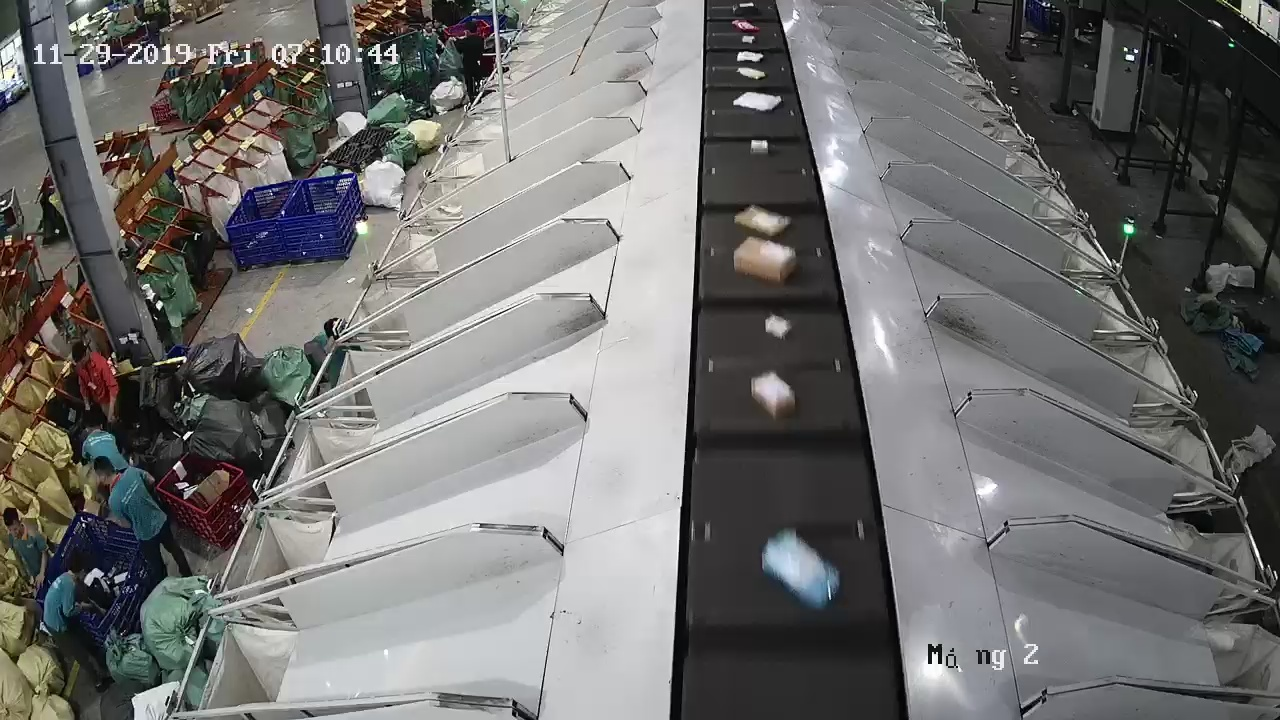parcel: (762, 528, 840, 611), (733, 238, 797, 283), (751, 372, 796, 419), (734, 204, 792, 237), (733, 91, 782, 112), (765, 316, 791, 339), (750, 139, 769, 154)
